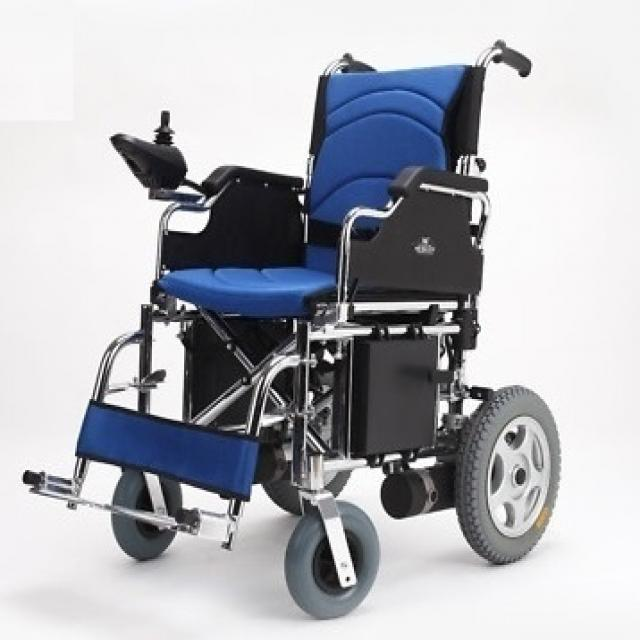wheelchair: (14, 27, 582, 632)
